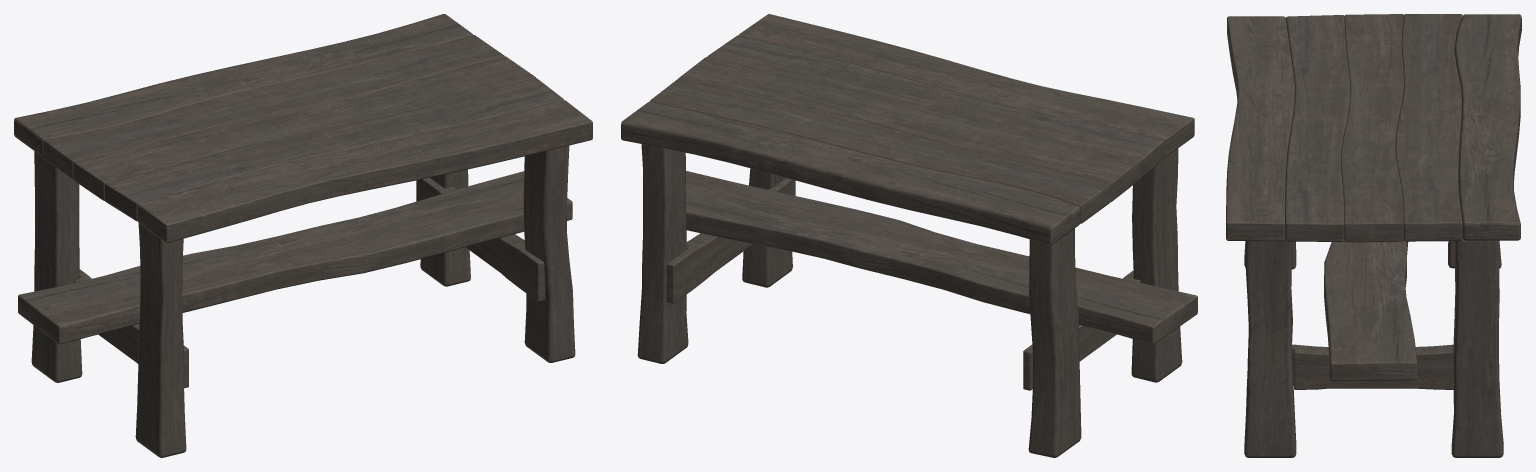
The model's file is table.fbx.
3 renders of one model, left to right at view 1: azimuth 30°, elevation 25°; view 2: azimuth 150°, elevation 25°; view 3: azimuth 270°, elevation 25°, orthographic.
Parts seen in each view (by area): view 1: table; view 2: table; view 3: table.
Part boxes in pixels (<box>): table: <box>14,14,592,457</box>; table: <box>621,14,1197,457</box>; table: <box>1226,14,1521,457</box>.
Bounding box in the file's own units: 200 × 90.09 × 100.
